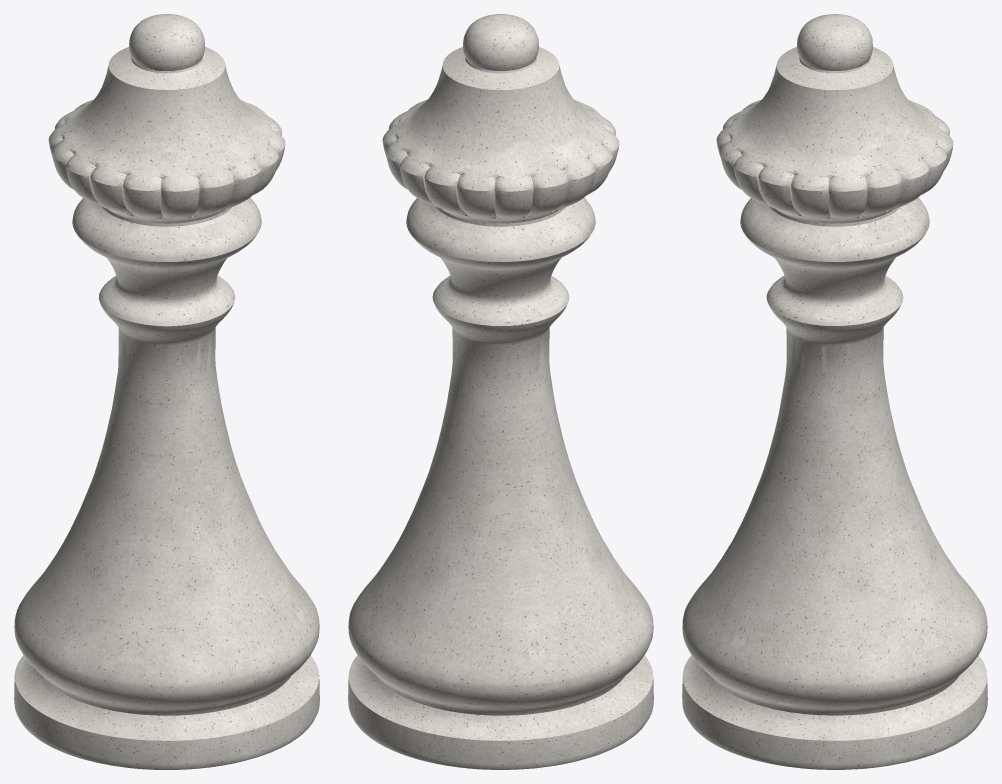
File: queen-white-hd.glb
The picture shows the model from 3 angles, left to right: view 1: azimuth 30°, elevation 25°; view 2: azimuth 150°, elevation 25°; view 3: azimuth 270°, elevation 25°; orthographic projection.
Parts seen in each view (by area): view 1: dama_bila; view 2: dama_bila; view 3: dama_bila.
Boxes of the visible parts, left/top/right/bottom form: dama_bila: left=14, top=14, right=319, bottom=769; dama_bila: left=348, top=14, right=653, bottom=769; dama_bila: left=682, top=14, right=987, bottom=769.
Bounding box in the file's own units: 0.5941 × 1.49 × 0.5941.
Materials: 1 (1 with a texture image).
